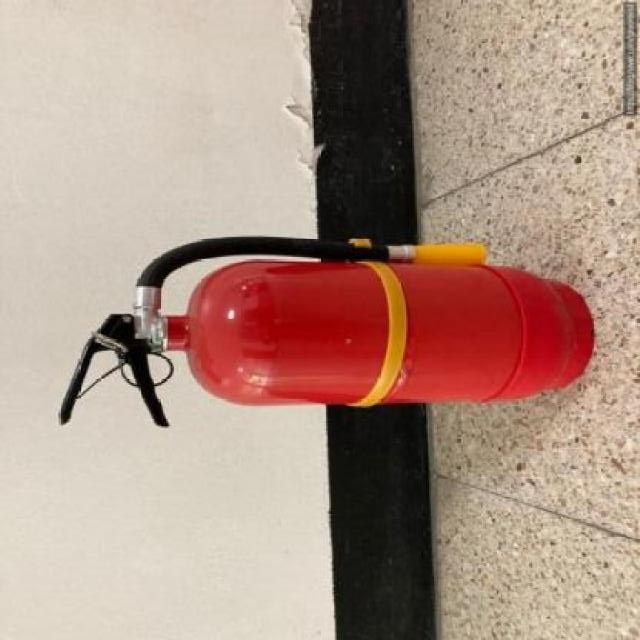fire extinguisher: (57, 236, 595, 429)
